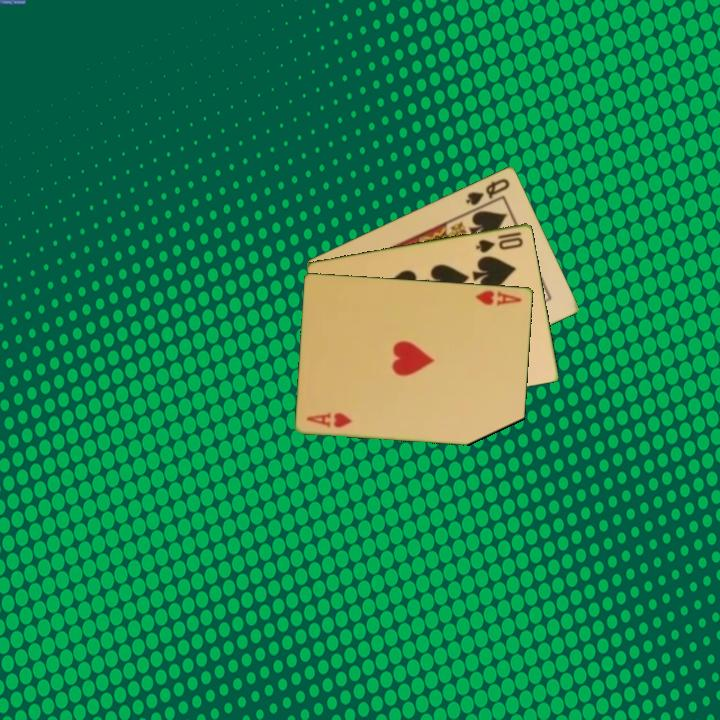10s: (473, 228, 526, 255)
Ah: (472, 286, 524, 309), (303, 409, 354, 430)
Qs: (462, 174, 513, 208)
